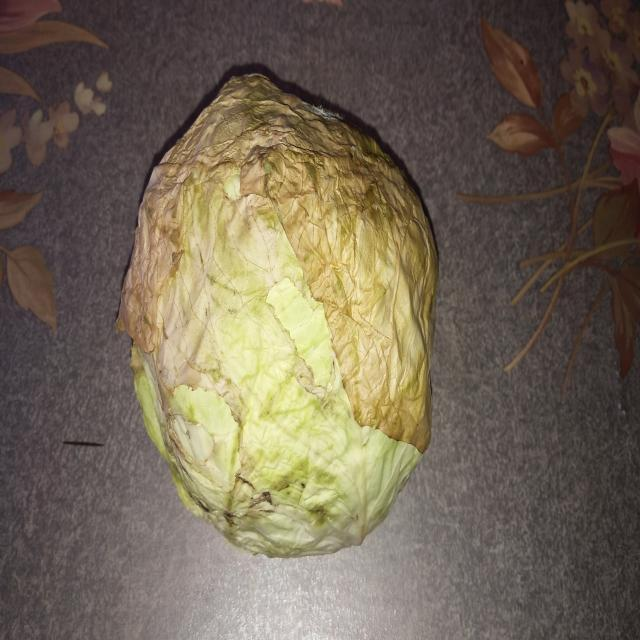cabbage: (112, 60, 440, 570)
